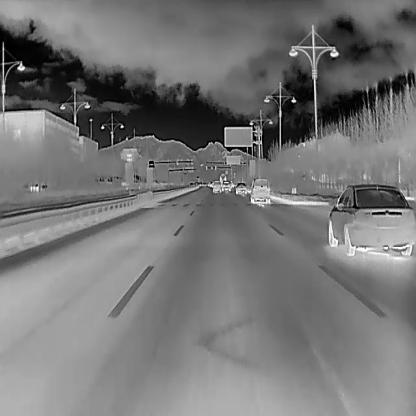car: (327, 182, 415, 256), (248, 176, 270, 204), (233, 180, 247, 194), (211, 180, 221, 192), (220, 179, 230, 191), (188, 182, 193, 186), (198, 181, 202, 185)
truck: (218, 171, 226, 181)
